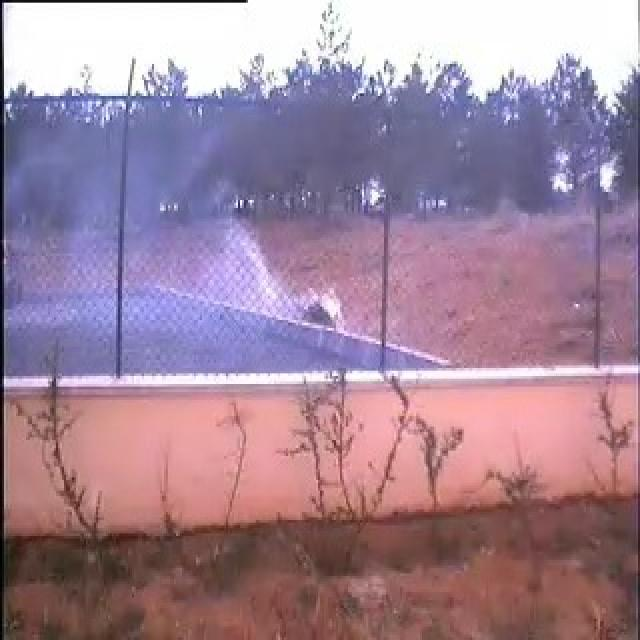smoke: (14, 130, 266, 365)
